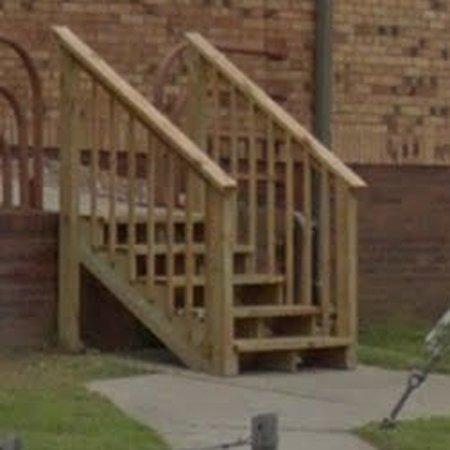stairs: (53, 27, 355, 375)
